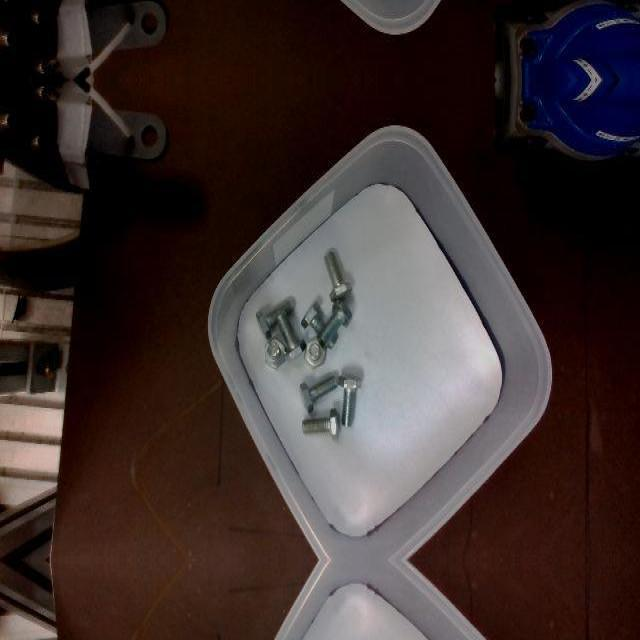screw: (317, 299, 352, 347), (275, 309, 306, 361), (323, 251, 352, 301), (299, 374, 337, 412), (337, 373, 361, 427), (301, 407, 339, 441)
